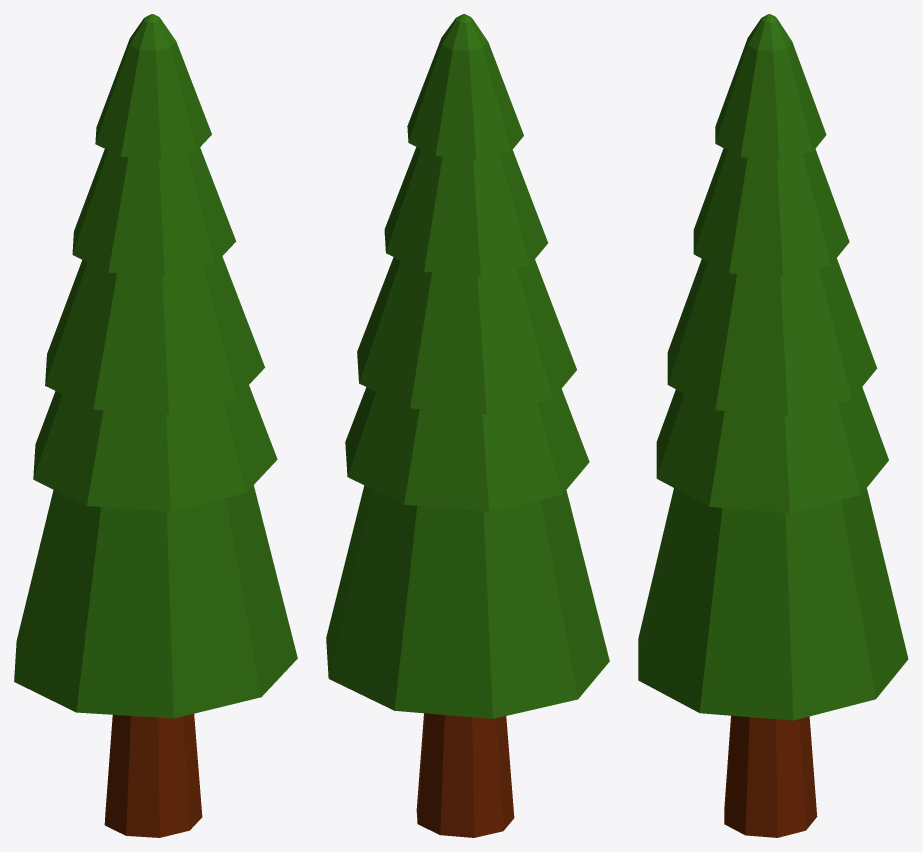
File: small tree.dae
3 renders of one model, left to right at view 1: azimuth 30°, elevation 25°; view 2: azimuth 150°, elevation 25°; view 3: azimuth 270°, elevation 25°, orthographic.
Visible parts, largest first — view 1: small_tree, small_tree.004, small_tree.005, small_tree.003, small_tree.002, small_tree.001; view 2: small_tree, small_tree.004, small_tree.005, small_tree.003, small_tree.002, small_tree.001; view 3: small_tree, small_tree.004, small_tree.005, small_tree.003, small_tree.002, small_tree.001.
Boxes of the visible parts, x1,y1,x2,y2 form: small_tree: [14, 485, 297, 718]; small_tree.004: [45, 256, 264, 414]; small_tree.005: [33, 385, 277, 511]; small_tree.003: [72, 147, 236, 275]; small_tree.002: [95, 14, 211, 159]; small_tree.001: [104, 714, 202, 837]; small_tree: [326, 485, 609, 718]; small_tree.004: [357, 257, 576, 414]; small_tree.005: [345, 387, 589, 511]; small_tree.003: [384, 147, 547, 276]; small_tree.002: [407, 14, 523, 159]; small_tree.001: [416, 713, 514, 837]; small_tree: [638, 488, 908, 720]; small_tree.004: [667, 258, 877, 415]; small_tree.005: [656, 387, 888, 512]; small_tree.003: [693, 148, 849, 277]; small_tree.002: [715, 14, 826, 160]; small_tree.001: [724, 715, 817, 837].
Bounding box in the file's own units: 1.52 × 1.41 × 4.62.
Materials: 1 (1 with a texture image).
